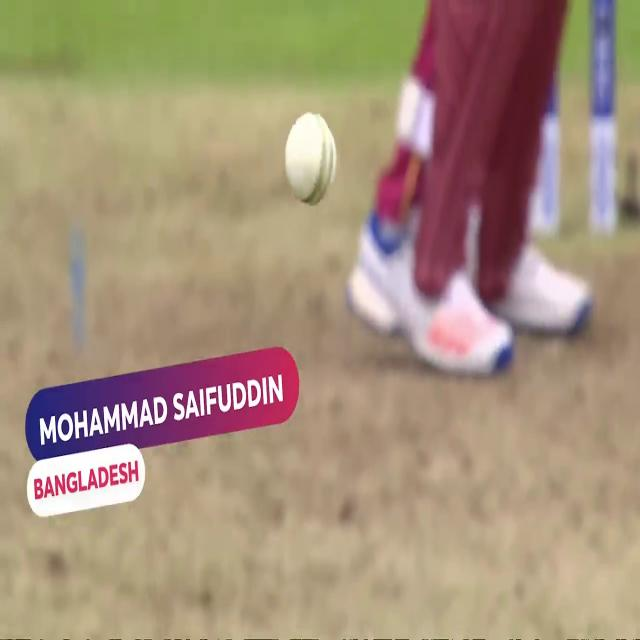ball: (284, 106, 338, 212)
